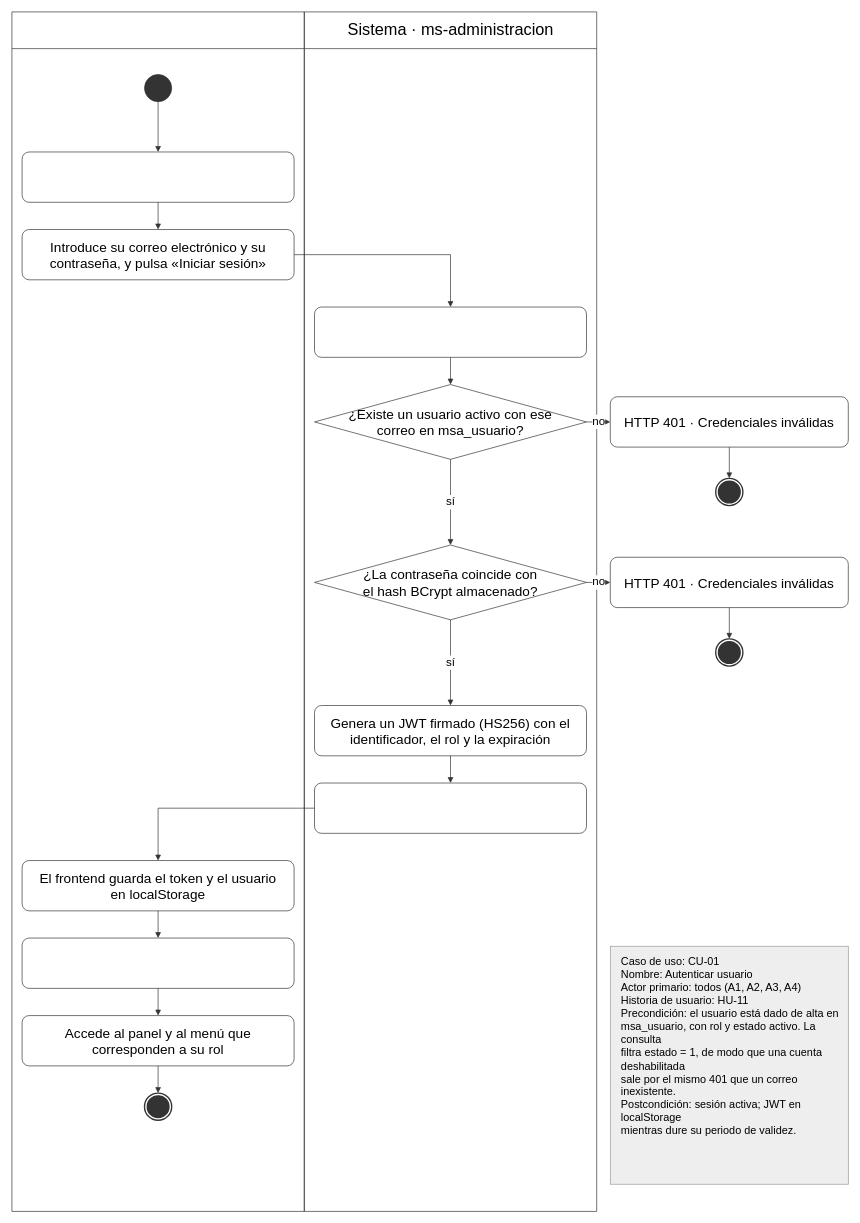
Image size: 860x1223. Some labels were removed from this diagram. The shapes that lost their labels are listed below. From the top down, each one's box as (x1, y1, x2, y2) in pixels, then its label:
(21, 151, 294, 202): Accede a la pantalla de inicio de sesión
(314, 306, 586, 357): Recibe POST /api/auth/login
(11, 11, 304, 1211): Usuario · A1 / A2 / A3 / A4
(314, 782, 586, 833): Devuelve HTTP 200 con el token, su tipo, la expiración y los datos del usuario
(21, 937, 294, 988): jwtInterceptor añade la cabecera Authorization: Bearer en cada petición
